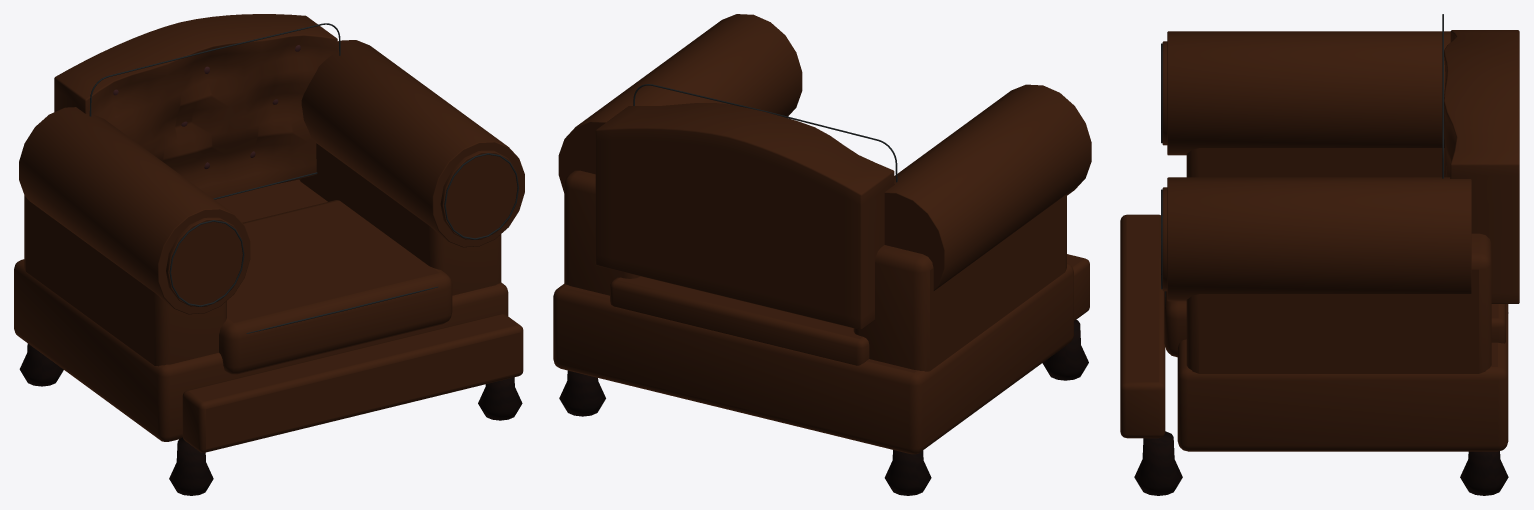
The model's file is chair_luxury_lod1.glb.
3 views of the same model, side by side, from view 1: azimuth 30°, elevation 25°; view 2: azimuth 150°, elevation 25°; view 3: azimuth 270°, elevation 25° (orthographic). The views are drawn at different scales.
Parts seen in each view (by area): view 1: LoungeBody_LOD1, LoungeWood_LOD1, LoungeTrim_LOD1; view 2: LoungeBody_LOD1, LoungeWood_LOD1, LoungeTrim_LOD1; view 3: LoungeBody_LOD1, LoungeWood_LOD1, LoungeTrim_LOD1.
Boxes of the visible parts, x1,y1,x2,y2 form: LoungeBody_LOD1: [14, 14, 524, 452]; LoungeWood_LOD1: [19, 343, 522, 495]; LoungeTrim_LOD1: [89, 23, 518, 333]; LoungeBody_LOD1: [553, 14, 1091, 454]; LoungeWood_LOD1: [559, 320, 1088, 495]; LoungeTrim_LOD1: [633, 84, 897, 182]; LoungeBody_LOD1: [1120, 30, 1519, 451]; LoungeWood_LOD1: [1134, 431, 1508, 495]; LoungeTrim_LOD1: [1161, 14, 1443, 305].
Bounding box in the file's own units: 1.18 × 0.945 × 1.02.
Materials: 4 (1 with a texture image).
